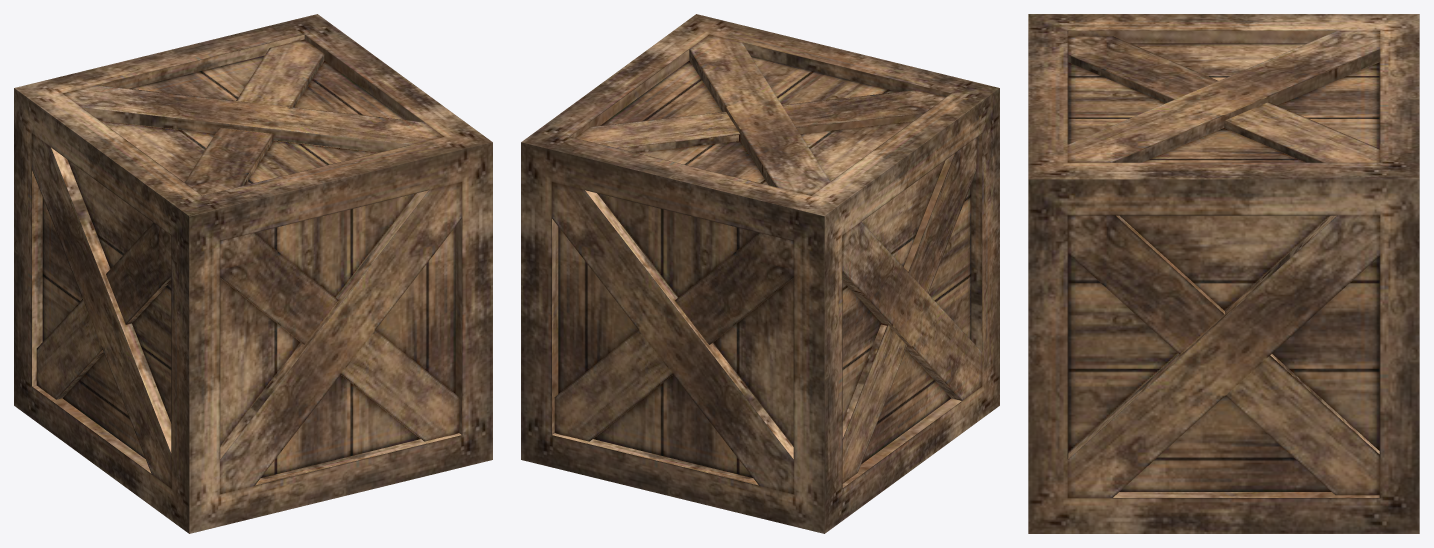
The picture shows the model from 3 angles, left to right: view 1: azimuth 30°, elevation 25°; view 2: azimuth 150°, elevation 25°; view 3: azimuth 270°, elevation 25°; orthographic projection. The views are drawn at different scales.
Visible parts, largest first — view 1: Mesh5; view 2: Mesh5; view 3: Mesh5.
Part boxes in pixels (x1,y1,x2,y2): Mesh5: (14, 14, 492, 533); Mesh5: (521, 14, 999, 533); Mesh5: (1028, 14, 1419, 533).
Bounding box in the file's own units: 2 × 2 × 2.
Materials: 1 (1 with a texture image).
